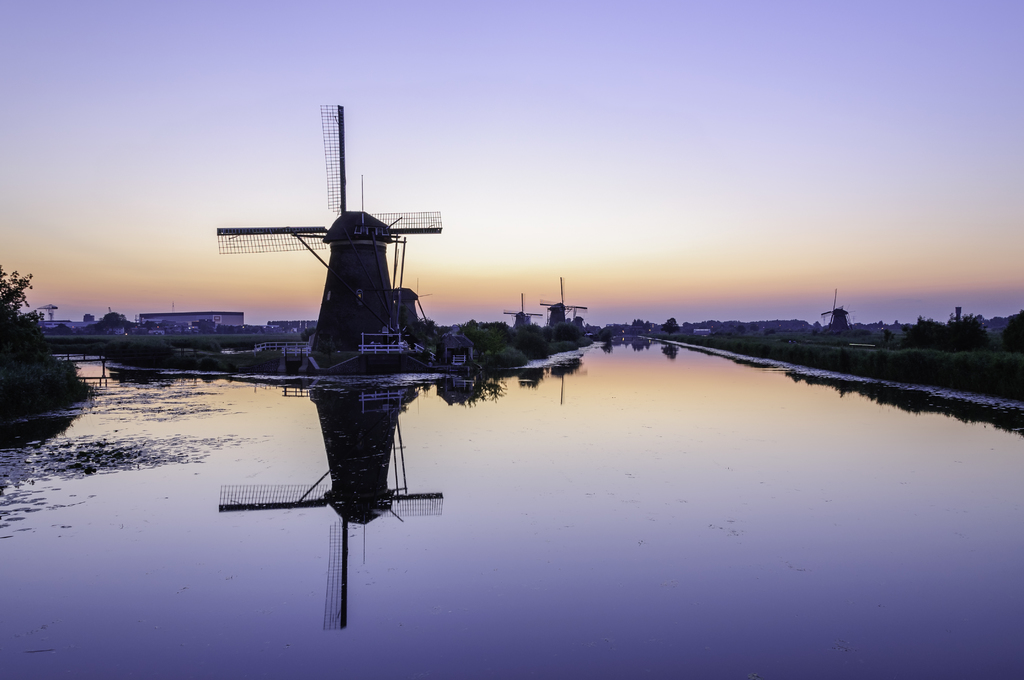Tree: (896, 318, 997, 355), (94, 304, 125, 338), (661, 311, 682, 336), (631, 313, 647, 333)
